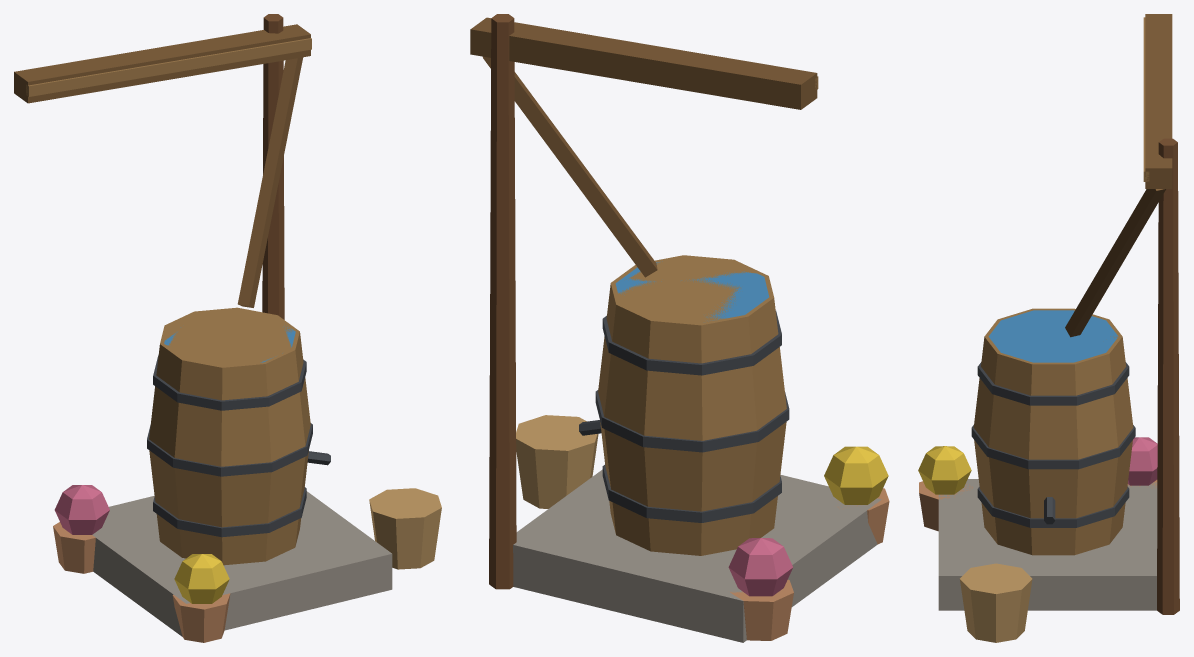
The model's file is annex_rain_barrel.glb.
3 renders of one model, left to right at view 1: azimuth 30°, elevation 25°; view 2: azimuth 150°, elevation 25°; view 3: azimuth 270°, elevation 25°, orthographic. The views are drawn at different scales.
Visible parts, largest first — view 1: annex_rain_barrel; view 2: annex_rain_barrel; view 3: annex_rain_barrel.
Boxes of the visible parts, x1,y1,x2,y2 form: annex_rain_barrel: (14, 14, 441, 642); annex_rain_barrel: (470, 14, 889, 642); annex_rain_barrel: (918, 14, 1179, 642).
Bounding box in the file's own units: 1.94 × 2.74 × 1.37.
